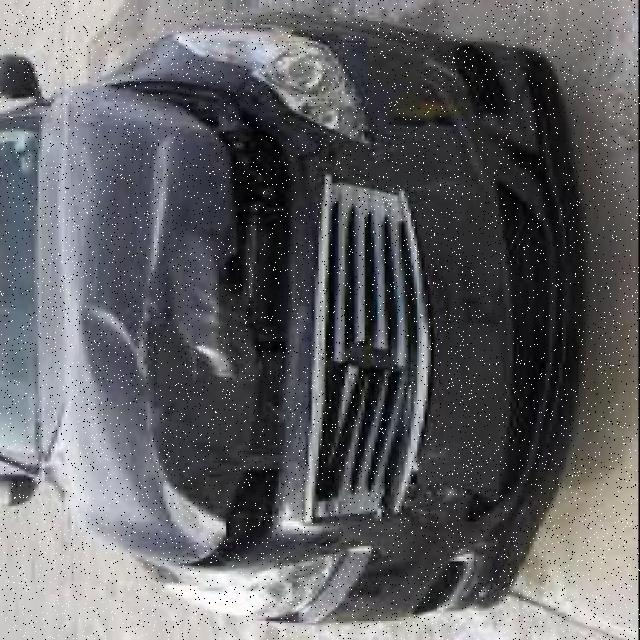damage: (80, 85, 303, 574), (285, 365, 531, 576)
